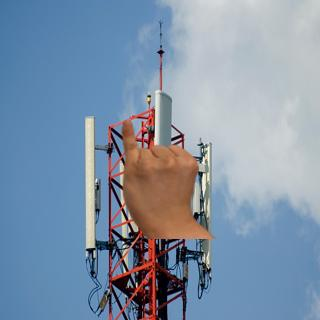FINE: (118, 115, 204, 231)
